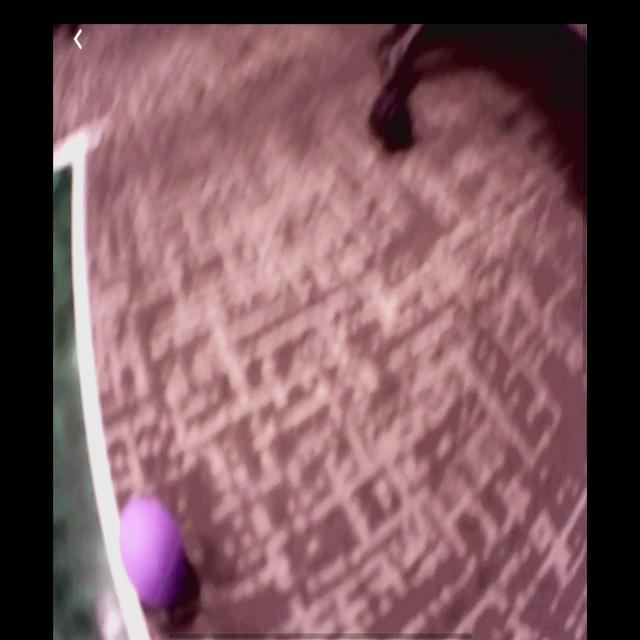ball: (118, 495, 194, 615)
